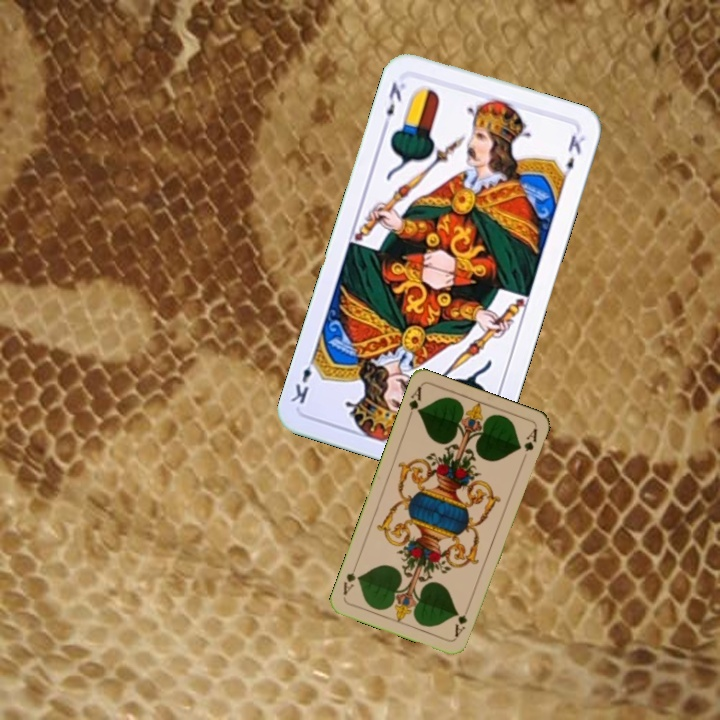EK: (379, 78, 408, 131)
GA: (451, 601, 473, 640), (404, 382, 424, 422)
